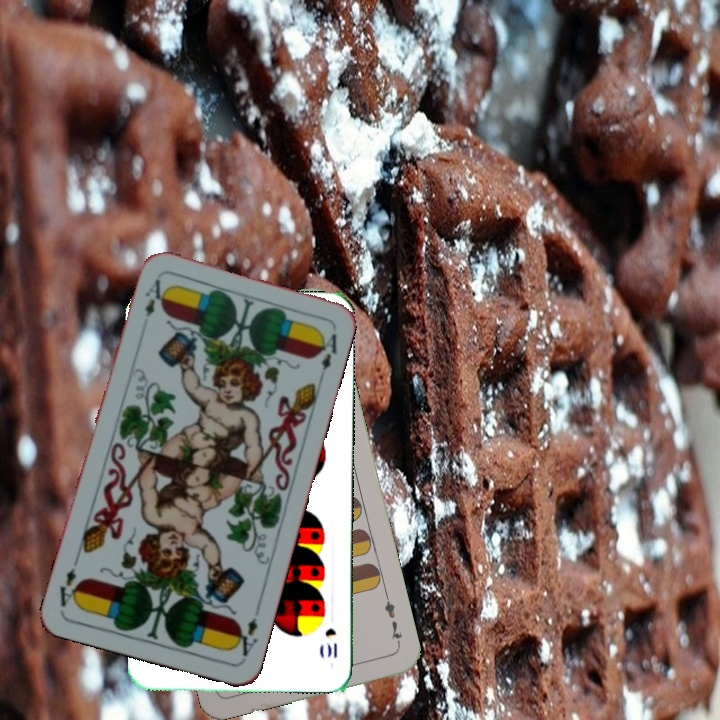E7: (380, 591, 405, 650)
EA: (230, 603, 263, 659), (140, 274, 163, 320)
S10: (321, 624, 339, 661)
